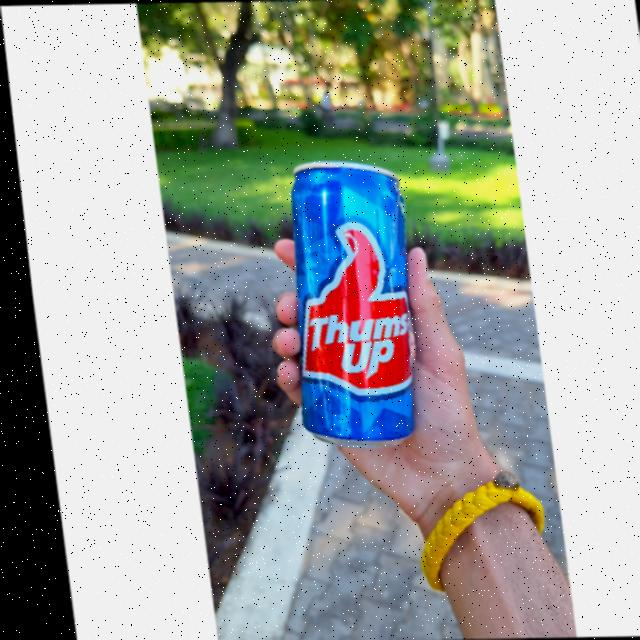Thums Up: (246, 155, 435, 441)
